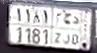1: (15, 6, 22, 44), (42, 9, 49, 47), (24, 8, 31, 43)
8: (32, 9, 40, 44)
D: (72, 13, 79, 47)
J: (63, 12, 70, 45)
Z: (54, 10, 61, 45)
